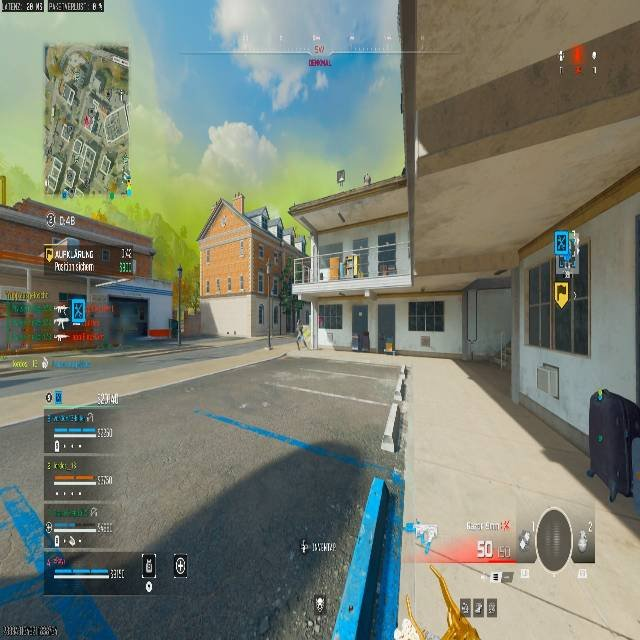player: (294, 319, 308, 350)
